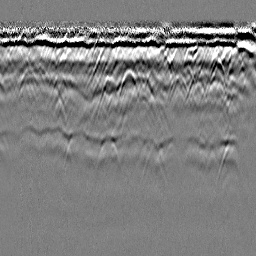cavity: (117, 67, 138, 98)
